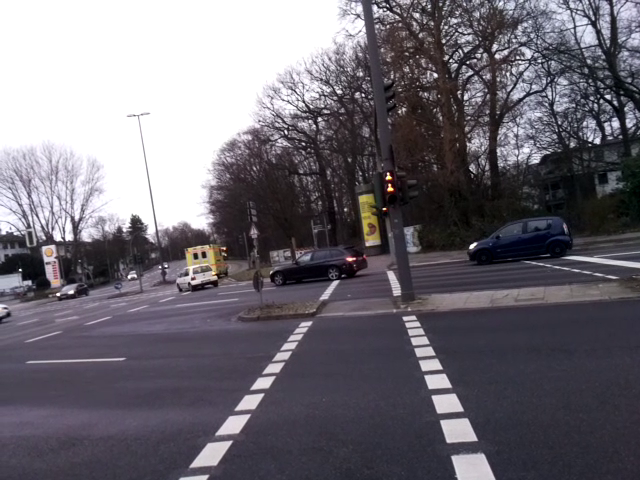car: (463, 216, 572, 262), (268, 246, 366, 284)
